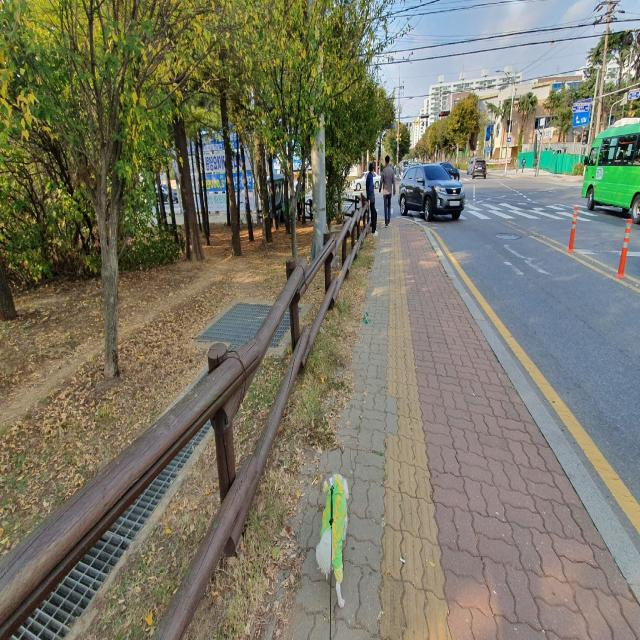횡단보도: (455, 191, 594, 227), (296, 188, 364, 214)
